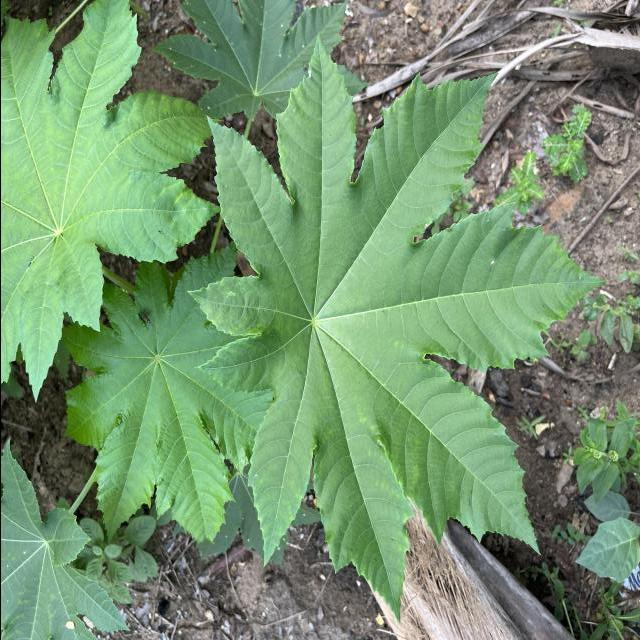Ricinus communis linn: (182, 31, 610, 630), (58, 238, 276, 552)
